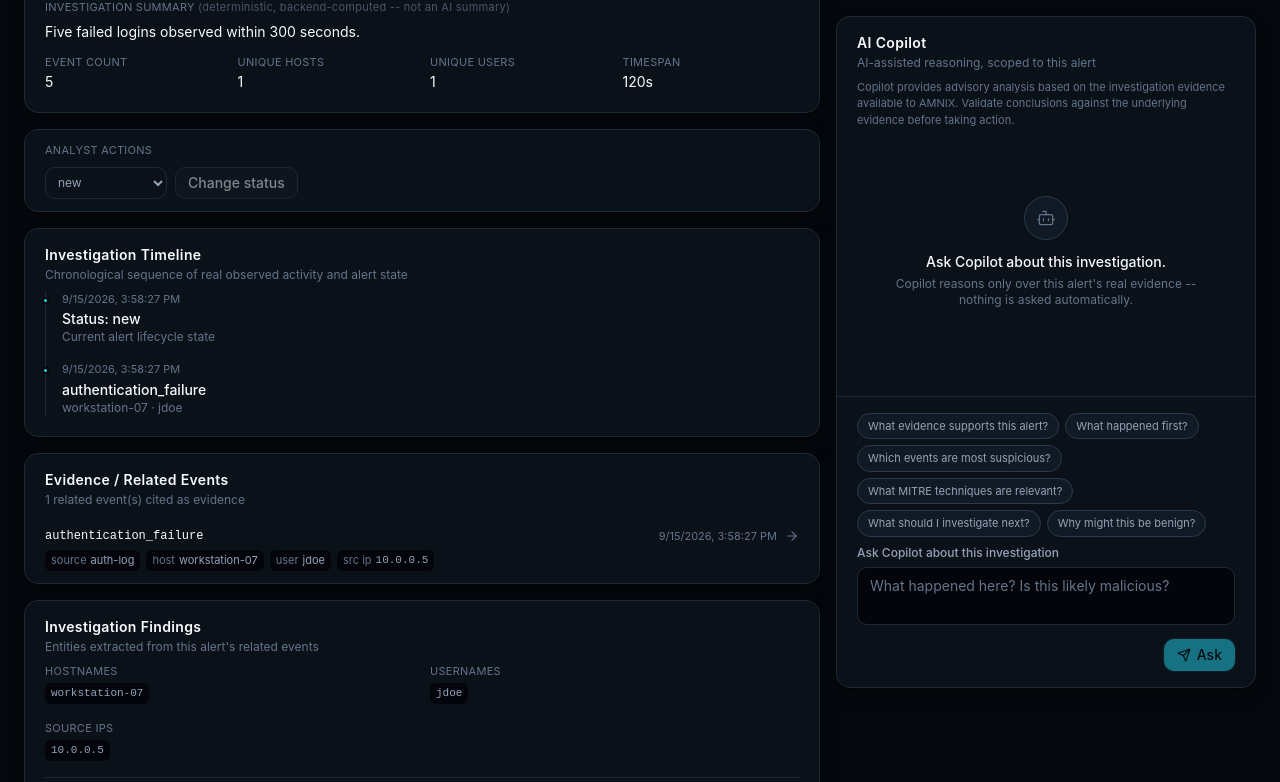
InvestigationWorkspacePage › supports a follow-up question using the real POST /alerts/{id}/copilot/follow-up with honest, non-fabricated history
(page scrolled)
In the text box labelled "Ask Copilot about this investigation": x=1046, y=595 top-left (857, 566), bottom-right (1235, 624), type "What happened here?"
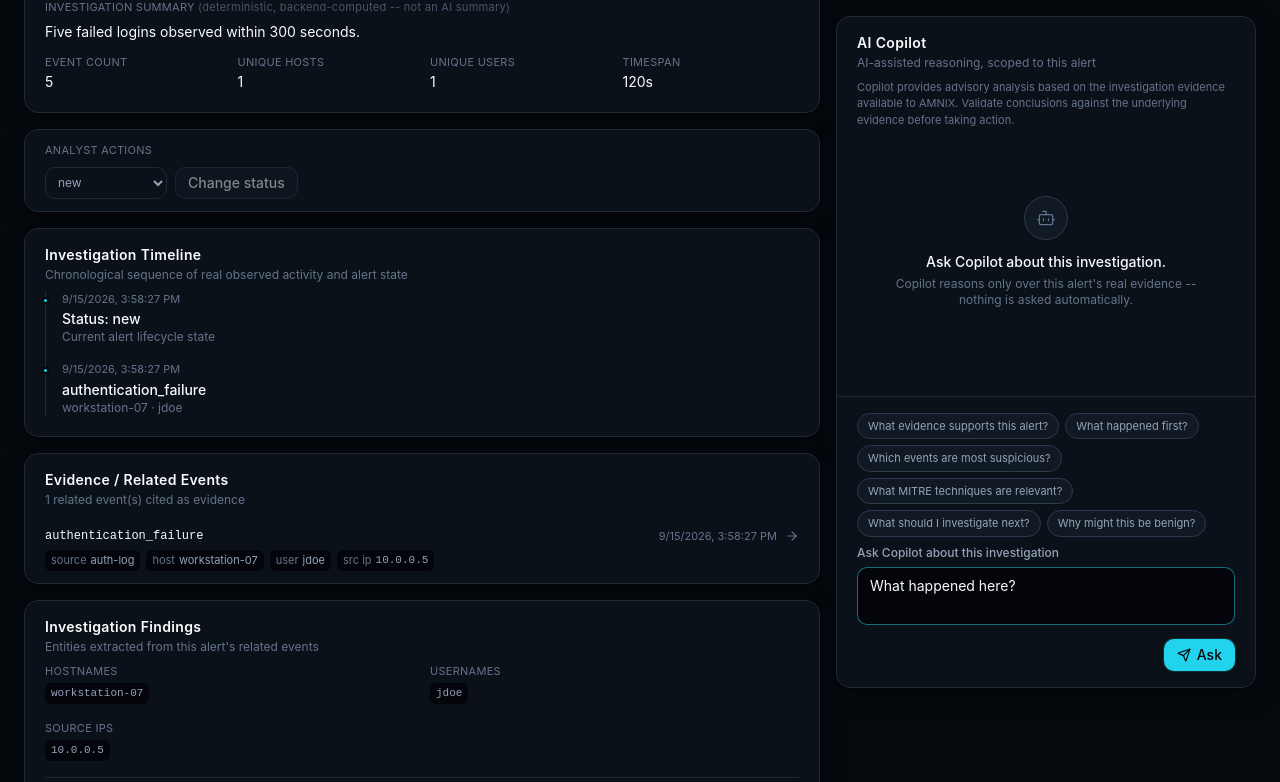
Click the button "Ask": x=1199, y=654 top-left (1164, 638), bottom-right (1235, 670)
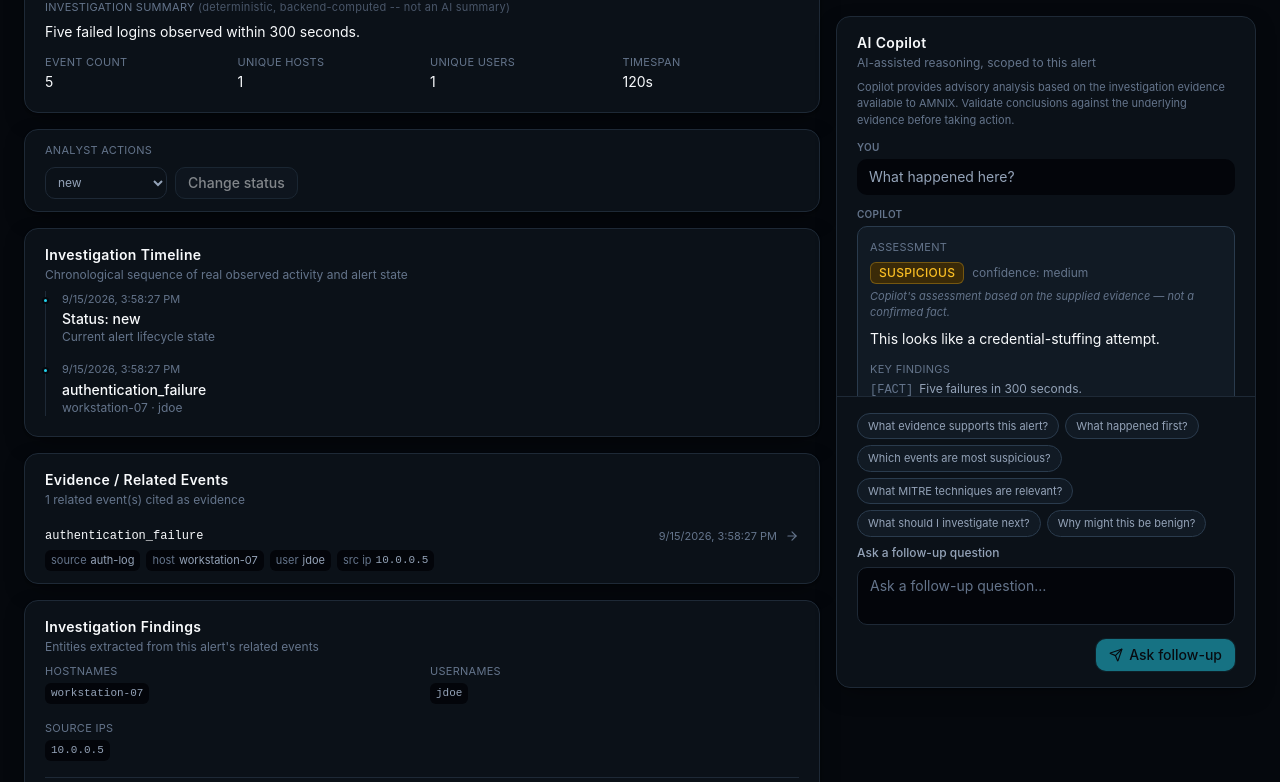
expect the text "This looks like a credential-stuffing attempt." is shown: met, box top-left (870, 329), bottom-right (1160, 346)
In the text box labelled "Ask a follow-up question": x=1046, y=595 top-left (857, 566), bottom-right (1235, 624), type "Has this IP been seen elsewhere?"
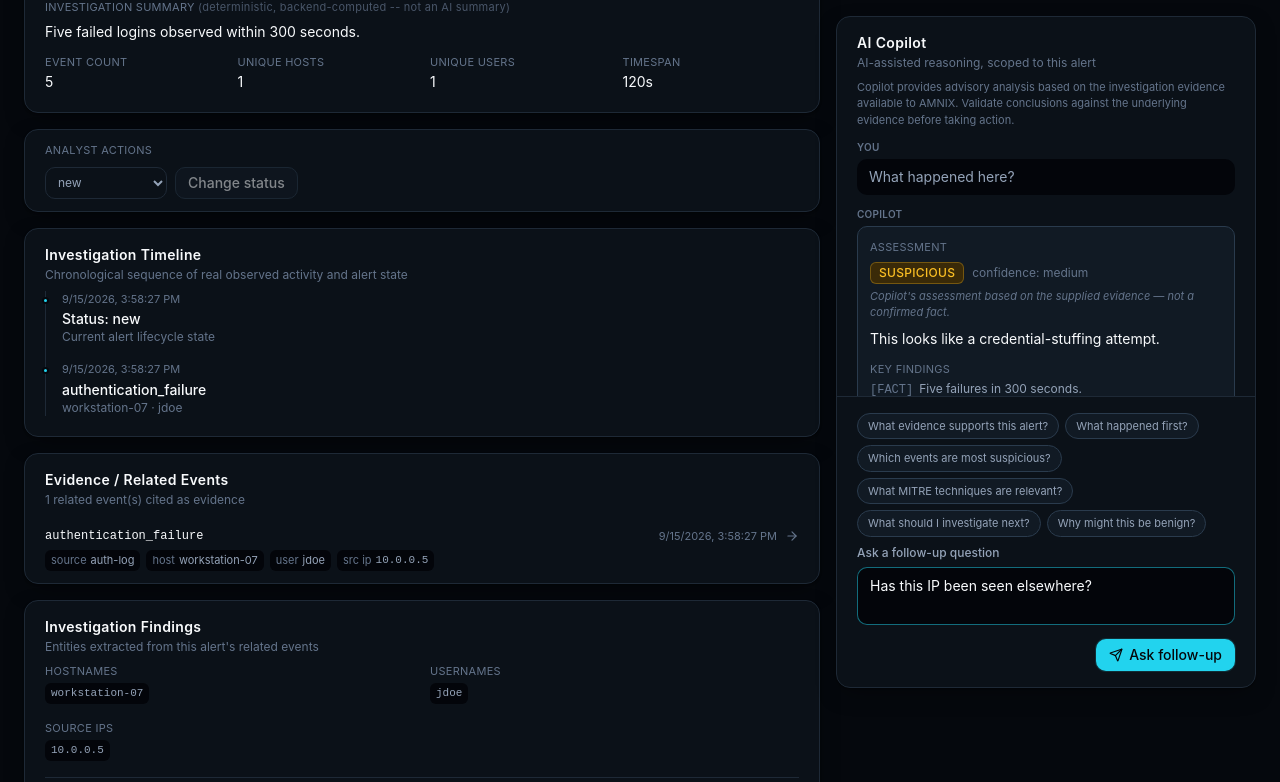
Click the button "Ask follow-up": x=1166, y=654 top-left (1096, 638), bottom-right (1235, 670)
(page scrolled)
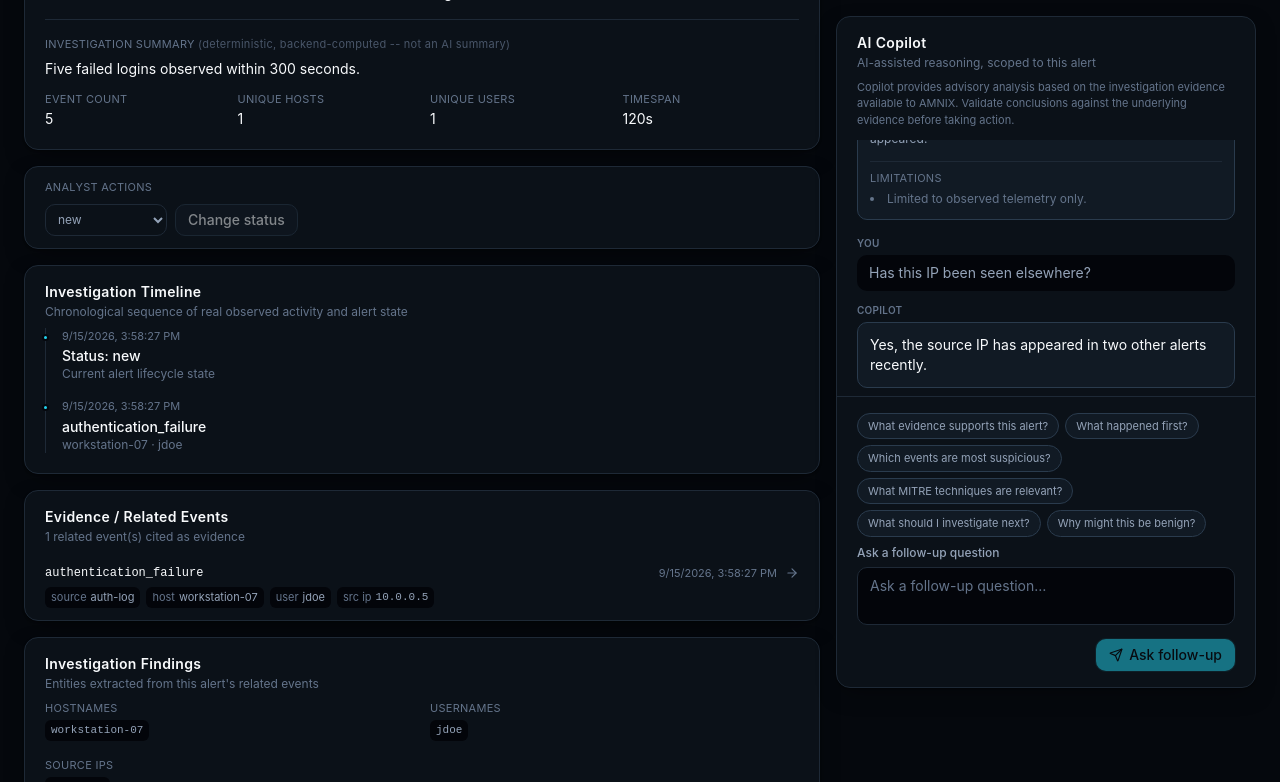
expect the text "Yes, the source IP has appeared in two other alerts recently." is shown: met, box top-left (870, 334), bottom-right (1222, 374)
